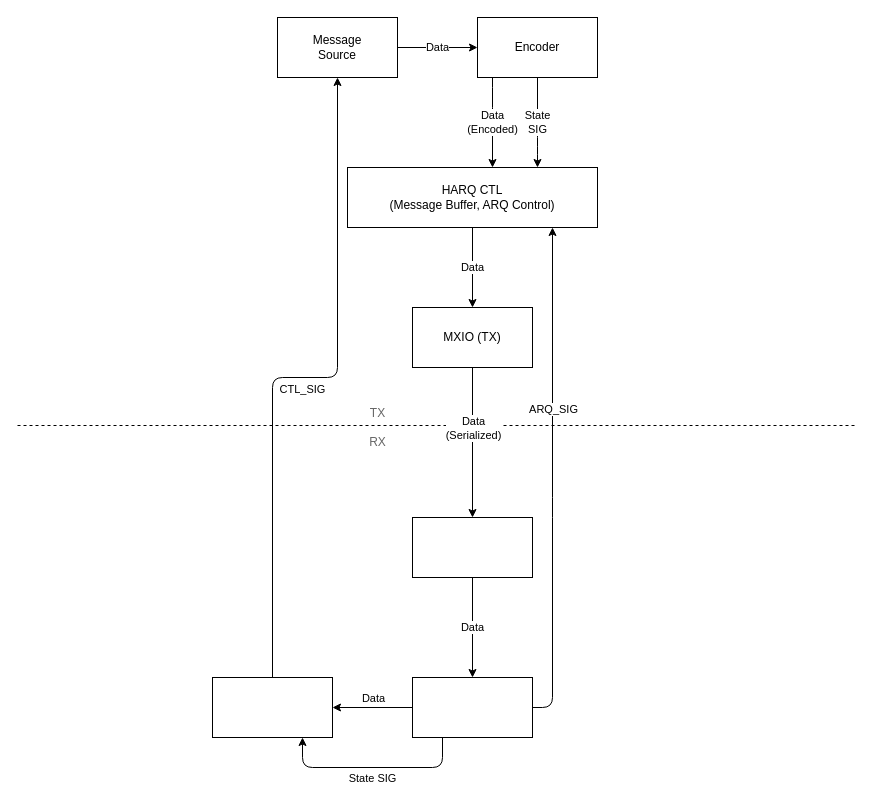
This 876x802 diagram has some shape labels left out. Here are the shapes that lost their labels. From the top down, the box of each, then its label:
(412, 516, 532, 578): MXIO (RX)
(212, 676, 332, 738): Message Destination
(412, 676, 532, 738): Decoder
